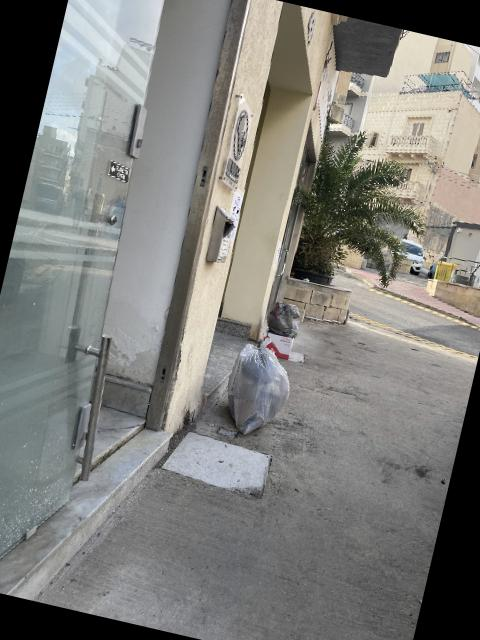Other: (266, 332, 292, 360)
Recyclable -Grey-: (227, 340, 289, 434), (267, 301, 300, 338)
